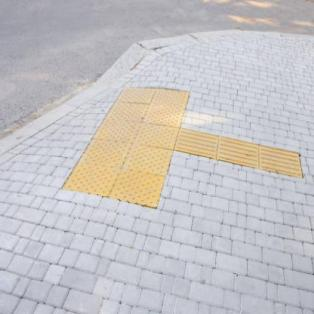Podoctatil: (61, 88, 303, 208)
